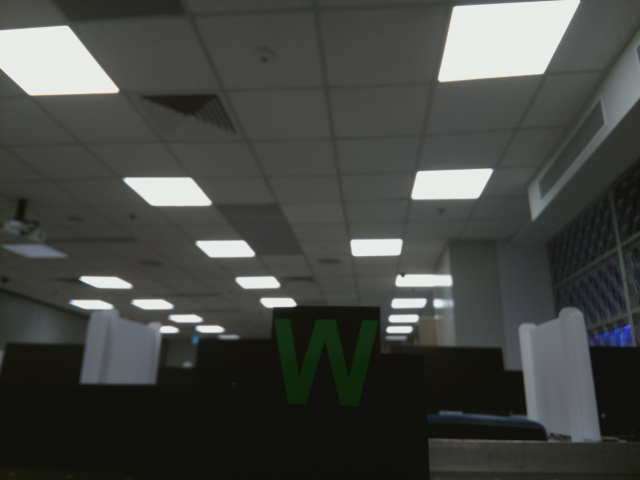w: (270, 313, 382, 411)
